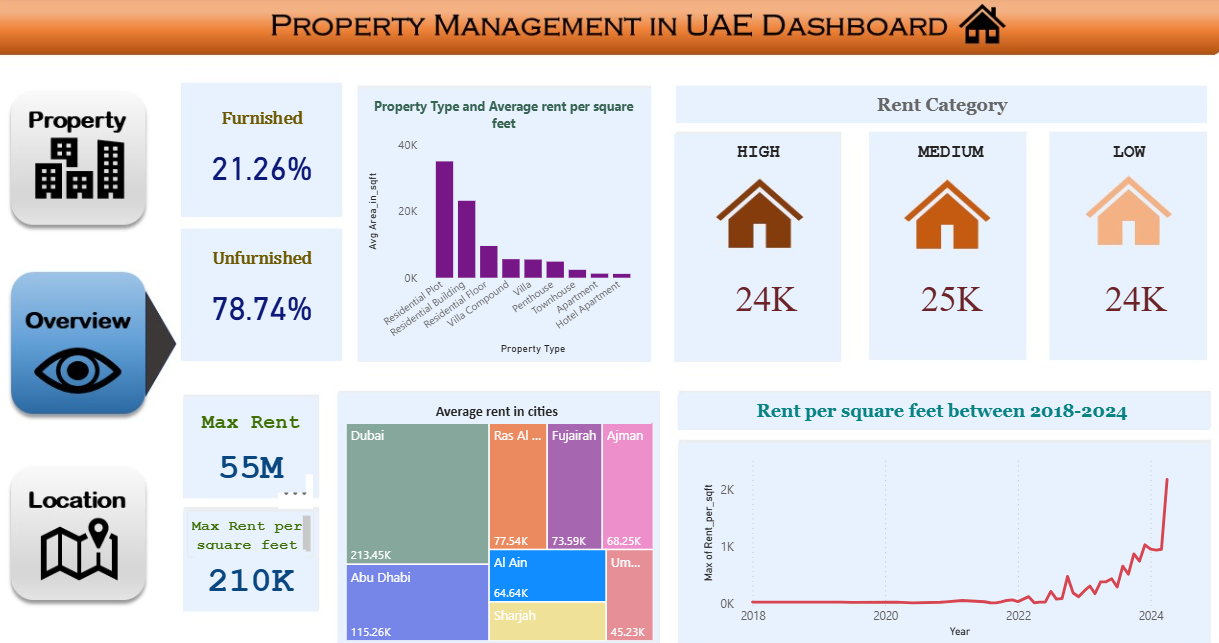

The dashboard page shown, as its layout file describes it:
{"tool":"powerbi","page":{"name":"overview","canvas":[1280,720],"ordinal":1},"visuals":[{"type":"textbox","box":[382.8,100.1,294.1,46.5],"z":1000},{"type":"textbox","box":[710.9,97.3,551.5,35.2],"z":3000},{"type":"card","fields":{"Values":["measure table.HIGH"]},"box":[758.2,278.1,90.8,70.4],"z":4000},{"type":"textbox","box":[758.2,146.4,75.1,38.9],"z":5000},{"type":"textbox","box":[947.3,146.4,97.3,38.9],"z":6000},{"type":"textbox","box":[1143.8,146.4,75.1,38.9],"z":7000},{"type":"card","fields":{"Values":["measure table.MEDIUM"]},"box":[957.5,278.1,76.9,70.4],"z":8000},{"type":"card","fields":{"Values":["measure table.LOW"]},"box":[1143.8,278.1,89,70.4],"z":9000},{"type":"treemap","fields":{"Group":["Sheet1.City"],"Values":["Avg(Sheet1.Rent)"]},"box":[365.2,439.3,320.7,232.6],"z":10000},{"type":"textbox","box":[363.3,418,320.7,28.7],"z":11000},{"type":"lineChart","fields":{"Y":["Max(Sheet1.Rent_per_sqft)"],"Category":["Sheet1.Posted_date.Variation.Date Hierarchy.Year","Sheet1.Posted_date.Variation.Date Hierarchy.Quarter","Sheet1.Posted_date.Variation.Date Hierarchy.Month"]},"box":[733.1,469.9,506.1,202.1],"z":12000},{"type":"textbox","box":[710.9,415.2,551.5,35.2],"z":13000},{"type":"textbox","box":[200.2,258.6,154.8,38.9],"z":14000},{"type":"textbox","box":[200.2,113.1,154.8,38.9],"z":15000},{"type":"textbox","box":[200.2,536.7,133.5,48.2],"z":16000},{"type":"textbox","box":[200.2,427.3,133.5,38.9],"z":17000},{"type":"card","fields":{"Values":["measure table.percentage_f"]},"box":[200.2,152,154.8,51],"z":18000},{"type":"card","fields":{"Values":["measure table.max_rent"]},"box":[207.6,457.9,115.9,59.3],"z":19000},{"type":"card","fields":{"Values":["measure table.min_rent"]},"box":[208.5,577.4,115.9,56.5],"z":20000},{"type":"card","fields":{"Values":["measure table.percentage_uf"]},"box":[200.2,297.5,154.8,51],"z":21000},{"type":"actionButton","box":[28.7,497.7,120.5,126.1],"z":22000},{"type":"actionButton","box":[28.7,102.9,120.5,126.1],"z":23000},{"type":"clusteredColumnChart","fields":{"Category":["Sheet1.Type"],"Y":["Avg(Sheet1.Area_in_sqft)"]},"box":[382.8,140.5,294.1,238],"z":23001}]}

Visuals, with their boxes on the page's 1280x720 design canvas (x1, y1, x2, y2). These are canvas units, not pixel positions in the 1219x643 screenshot, which may show the page scaled, cropped or inside an application window:
textbox: 383,100,677,147
textbox: 711,97,1262,132
card - measure table.HIGH: 758,278,849,348
textbox: 758,146,833,185
textbox: 947,146,1045,185
textbox: 1144,146,1219,185
card - measure table.MEDIUM: 958,278,1034,348
card - measure table.LOW: 1144,278,1233,348
treemap - Sheet1.City x Avg(Sheet1.Rent): 365,439,686,672
textbox: 363,418,684,447
lineChart - Max(Sheet1.Rent_per_sqft) x Sheet1.Posted_date.Variation.Date Hierarchy.Year: 733,470,1239,672
textbox: 711,415,1262,450
textbox: 200,259,355,298
textbox: 200,113,355,152
textbox: 200,537,334,585
textbox: 200,427,334,466
card - measure table.percentage_f: 200,152,355,203
card - measure table.max_rent: 208,458,324,517
card - measure table.min_rent: 208,577,324,634
card - measure table.percentage_uf: 200,298,355,348
actionButton: 29,498,149,624
actionButton: 29,103,149,229
clusteredColumnChart - Sheet1.Type x Avg(Sheet1.Area_in_sqft): 383,140,677,378
